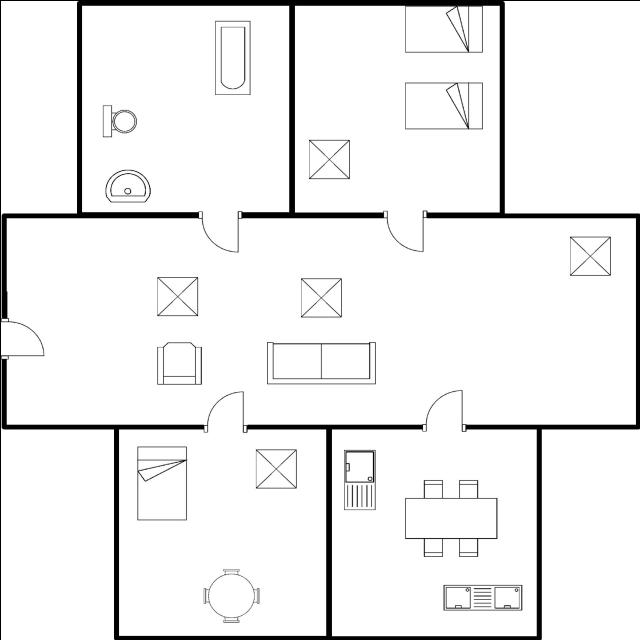armchair: (150, 336, 210, 390)
bed: (400, 75, 486, 134), (400, 0, 489, 55), (133, 441, 191, 523)
coffee_table: (301, 134, 354, 187), (294, 270, 346, 322), (150, 271, 203, 319), (250, 444, 302, 492), (563, 231, 616, 278)
dining_table: (398, 472, 502, 560)
large_sink: (98, 99, 142, 141)
large_sofa: (262, 334, 380, 388)
round_table: (199, 564, 266, 627)
sink: (339, 443, 379, 513)
small_sink: (101, 165, 156, 208)
tub: (208, 14, 258, 98)
twin_sink: (435, 580, 525, 616)
